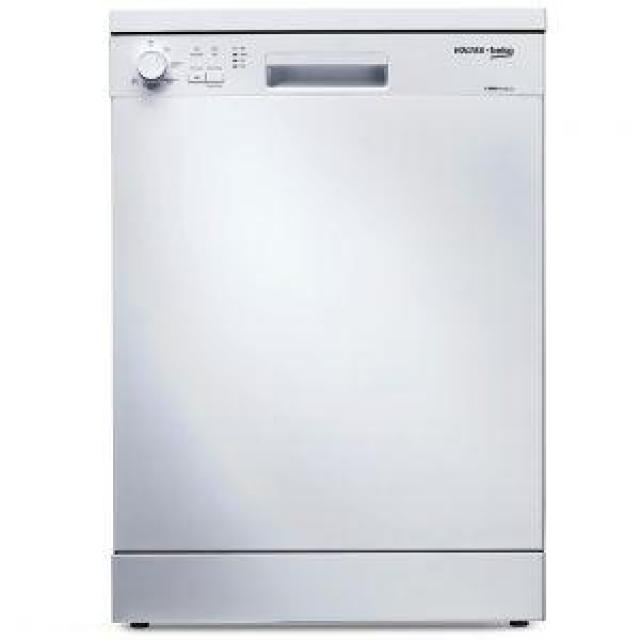dishwasher: (114, 0, 549, 640)
